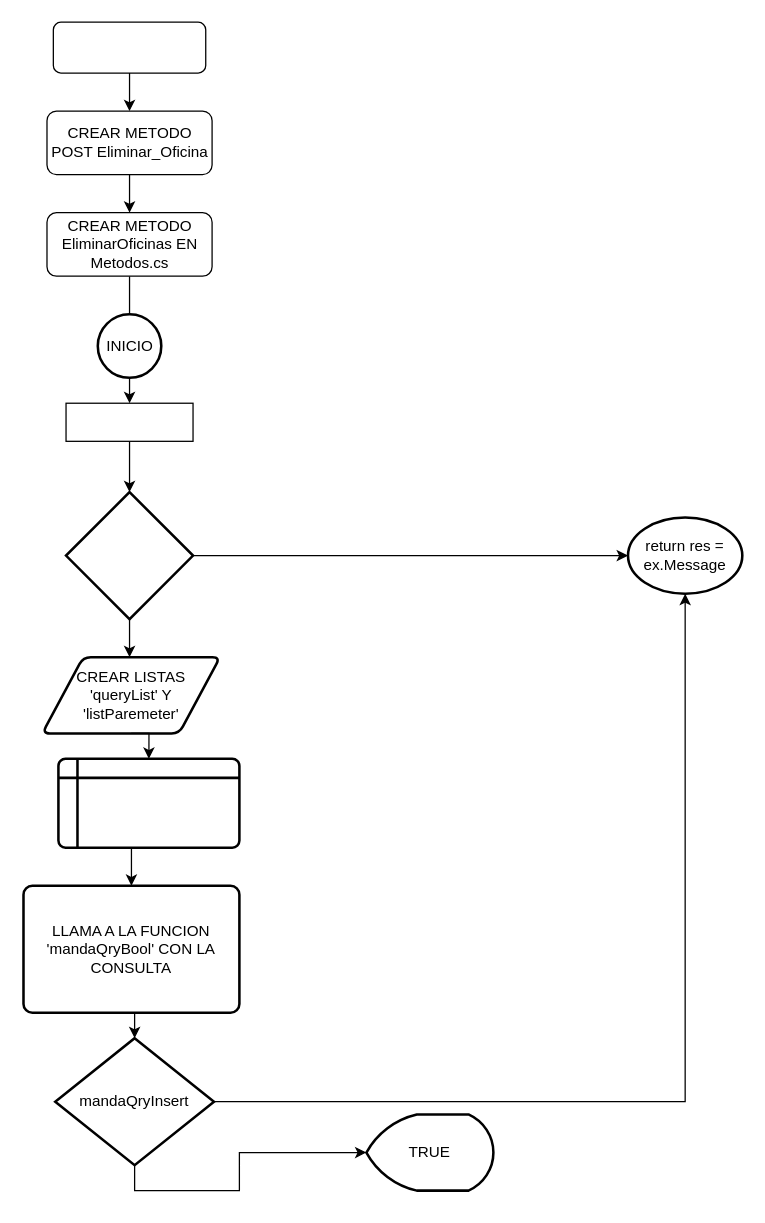
Image size: 765x1223. Some labels were removed from this diagram. The centre of each missing label's shape, as x and y in pixels:
CREAR CLASS eliminarOficinas: [129,47]
DELETE FROM office_location: [148,802]
res = "", version = 0: [129,421]
try catch: [129,555]
